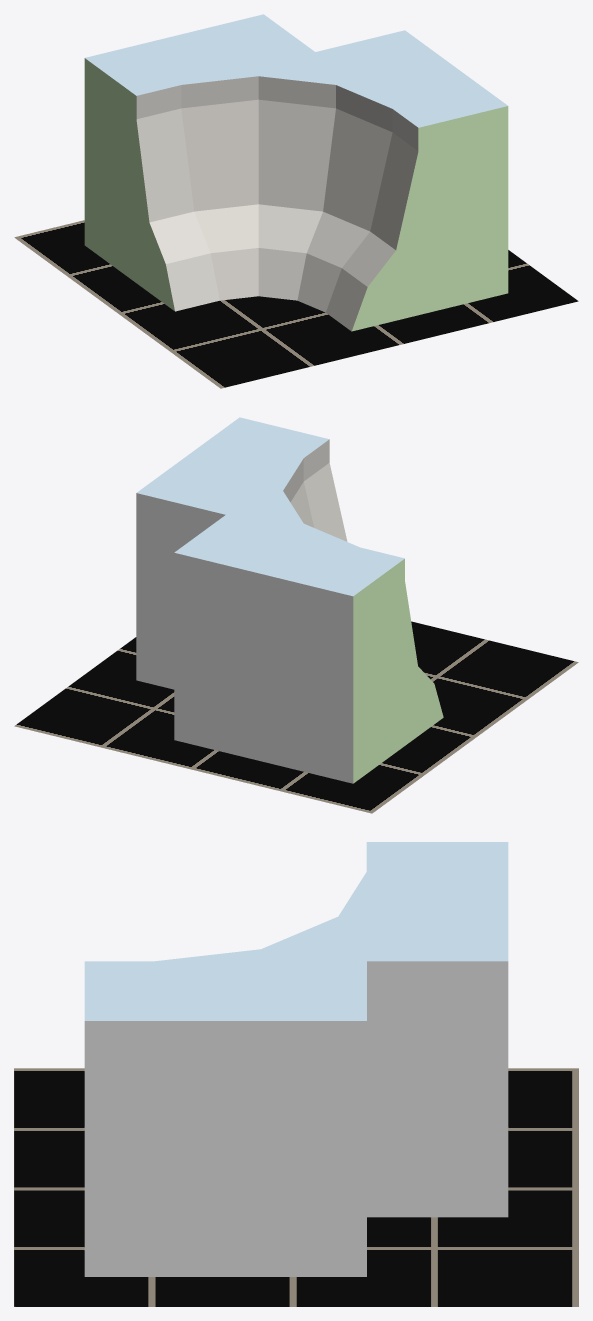
Rendered from Wall_Curve_Inner_3x3_Base.glb.
3 views of the same model, one above another, from view 1: azimuth 30°, elevation 25°; view 2: azimuth 150°, elevation 25°; view 3: azimuth 270°, elevation 25° (orthographic). The views are drawn at different scales.
Parts seen in each view (by area): view 1: Wall_Curve_Inner_3x3_Base, Floor; view 2: Wall_Curve_Inner_3x3_Base, Floor; view 3: Wall_Curve_Inner_3x3_Base, Floor.
Part boxes in pixels (left/top/right/bottom): Wall_Curve_Inner_3x3_Base: left=84, top=14, right=508, bottom=331; Floor: left=14, top=220, right=578, bottom=388; Wall_Curve_Inner_3x3_Base: left=136, top=417, right=443, bottom=783; Floor: left=14, top=621, right=578, bottom=813; Wall_Curve_Inner_3x3_Base: left=84, top=842, right=508, bottom=1276; Floor: left=14, top=1068, right=578, bottom=1306.
Size of the model in its own units: 400 by 200 by 400.
Materials: 5 (1 with a texture image).
